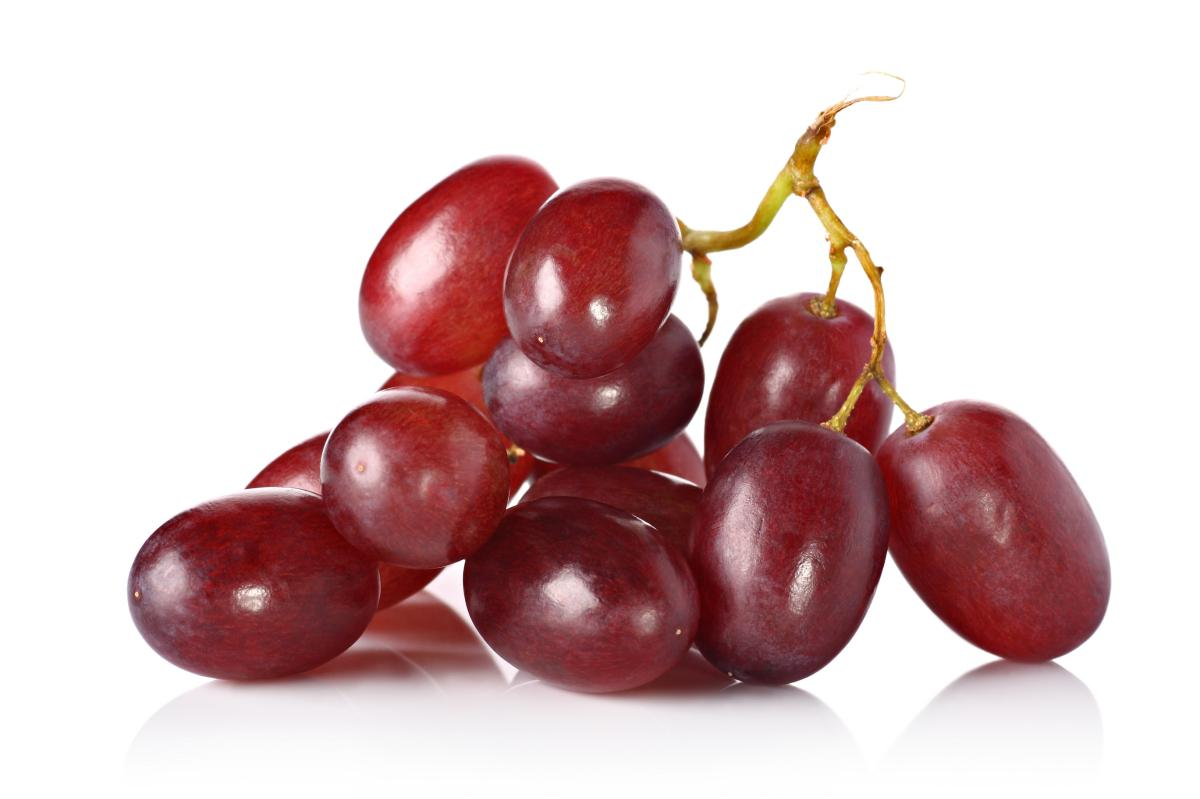grape: (873, 392, 1112, 666), (113, 483, 386, 680), (697, 422, 889, 686), (458, 500, 705, 680), (310, 385, 513, 562), (500, 165, 681, 360), (358, 152, 511, 354)
